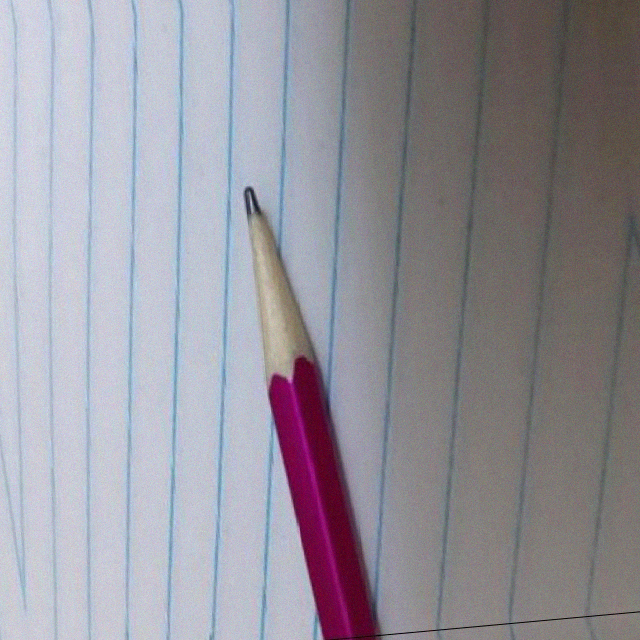pencil: (219, 174, 317, 392)
